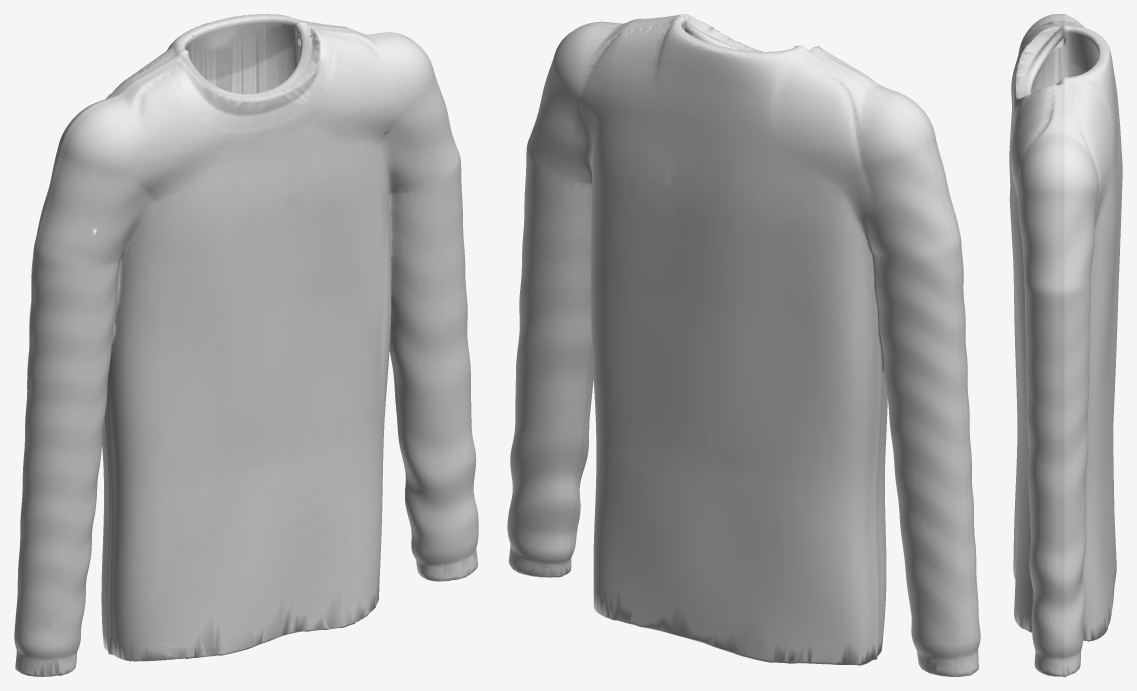
3 renders of one model, left to right at view 1: azimuth 30°, elevation 25°; view 2: azimuth 150°, elevation 25°; view 3: azimuth 270°, elevation 25°, orthographic. The views are drawn at different scales.
Visible parts, largest first — view 1: TT08-W02; view 2: TT08-W02; view 3: TT08-W02.
Part boxes in pixels (x1=…): TT08-W02: x1=14, y1=14, x2=478, y2=676; TT08-W02: x1=507, y1=14, x2=980, y2=676; TT08-W02: x1=1009, y1=14, x2=1122, y2=676.
Bounding box in the file's own units: 0.813 × 1 × 0.1925.
Materials: 1 (1 with a texture image).
